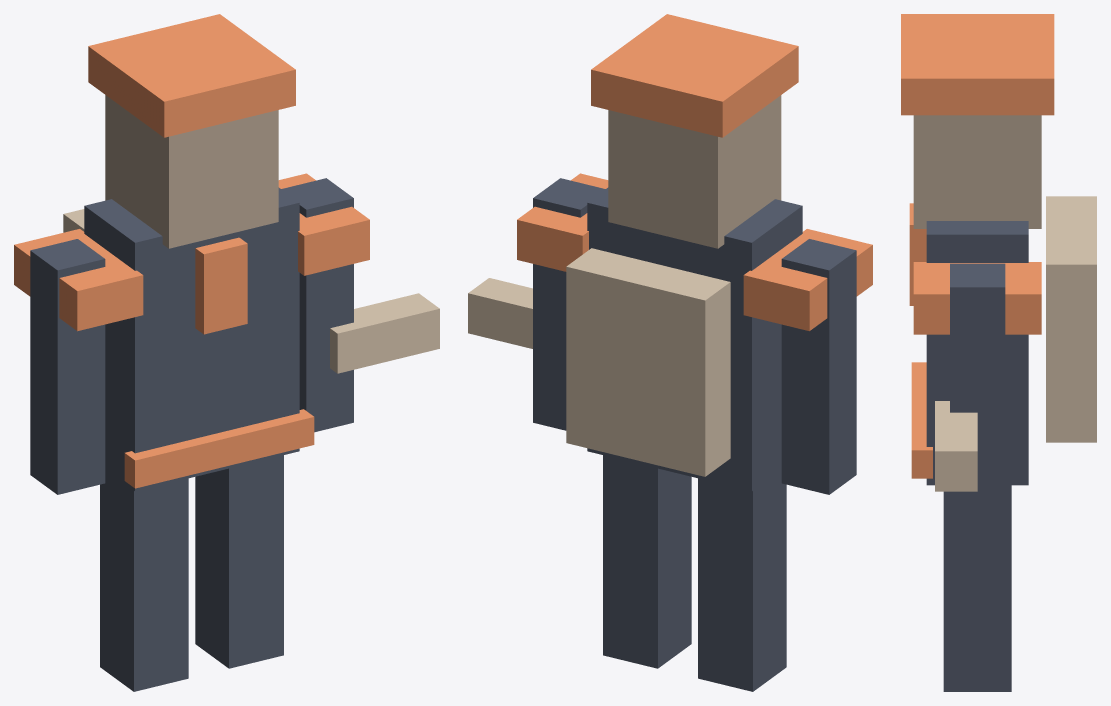
Rendered from 12_juno_emberkin_broker_near_quantum.glb.
3 renders of one model, left to right at view 1: azimuth 30°, elevation 25°; view 2: azimuth 150°, elevation 25°; view 3: azimuth 270°, elevation 25°, orthographic.
Parts seen in each view (by area): view 1: Juno Emberkin, Broker near Quantum; view 2: Juno Emberkin, Broker near Quantum; view 3: Juno Emberkin, Broker near Quantum.
Part boxes in pixels (bbox=[...]): Juno Emberkin, Broker near Quantum: bbox=[14, 14, 439, 691]; Juno Emberkin, Broker near Quantum: bbox=[468, 14, 872, 691]; Juno Emberkin, Broker near Quantum: bbox=[901, 14, 1096, 691].
Size of the model in its own units: 0.9615 by 1.48 by 0.4315.
